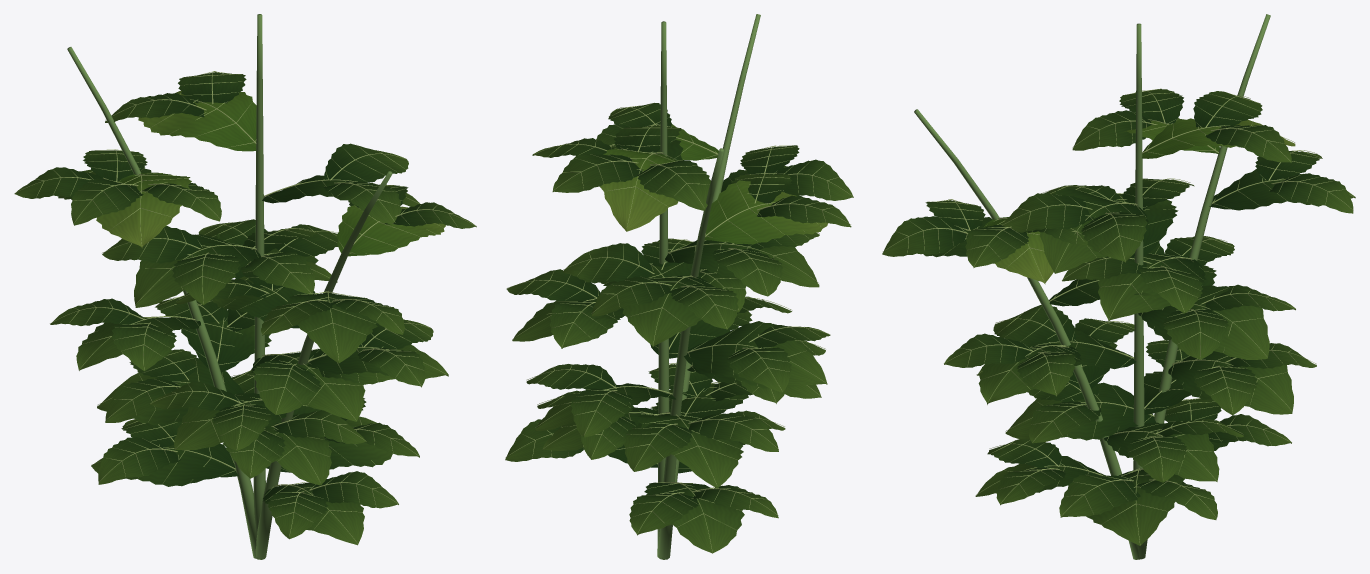
The model's file is dahlia-06.glb.
3 views of the same model, side by side, from view 1: azimuth 30°, elevation 25°; view 2: azimuth 150°, elevation 25°; view 3: azimuth 270°, elevation 25° (orthographic).
Parts seen in each view (by area): view 1: dahlia_stage_06_leaf_veins.010, dahlia_stage_06_raised_midveins.010, dahlia_stage_06_young_leaf.010, dahlia_stage_06_stem_fibres.010; view 2: dahlia_stage_06_leaf_veins.010, dahlia_stage_06_raised_midveins.010, dahlia_stage_06_young_leaf.010, dahlia_stage_06_stem_fibres.010; view 3: dahlia_stage_06_leaf_veins.010, dahlia_stage_06_raised_midveins.010, dahlia_stage_06_stem_fibres.010, dahlia_stage_06_young_leaf.010.
Boxes of the visible parts, x1,y1,x2,y2 form: dahlia_stage_06_leaf_veins.010: (14,72,476,545); dahlia_stage_06_raised_midveins.010: (15,71,476,543); dahlia_stage_06_young_leaf.010: (96,90,445,256); dahlia_stage_06_stem_fibres.010: (67,14,392,559); dahlia_stage_06_leaf_veins.010: (505,103,853,553); dahlia_stage_06_raised_midveins.010: (505,102,853,552); dahlia_stage_06_young_leaf.010: (600,124,828,244); dahlia_stage_06_stem_fibres.010: (657,14,760,559); dahlia_stage_06_leaf_veins.010: (882,89,1355,545); dahlia_stage_06_raised_midveins.010: (883,88,1354,545); dahlia_stage_06_stem_fibres.010: (914,14,1270,559); dahlia_stage_06_young_leaf.010: (983,118,1295,284).
Bounding box in the file's own units: 0.2355 × 0.3681 × 0.296.
4 materials, 2 textured.
